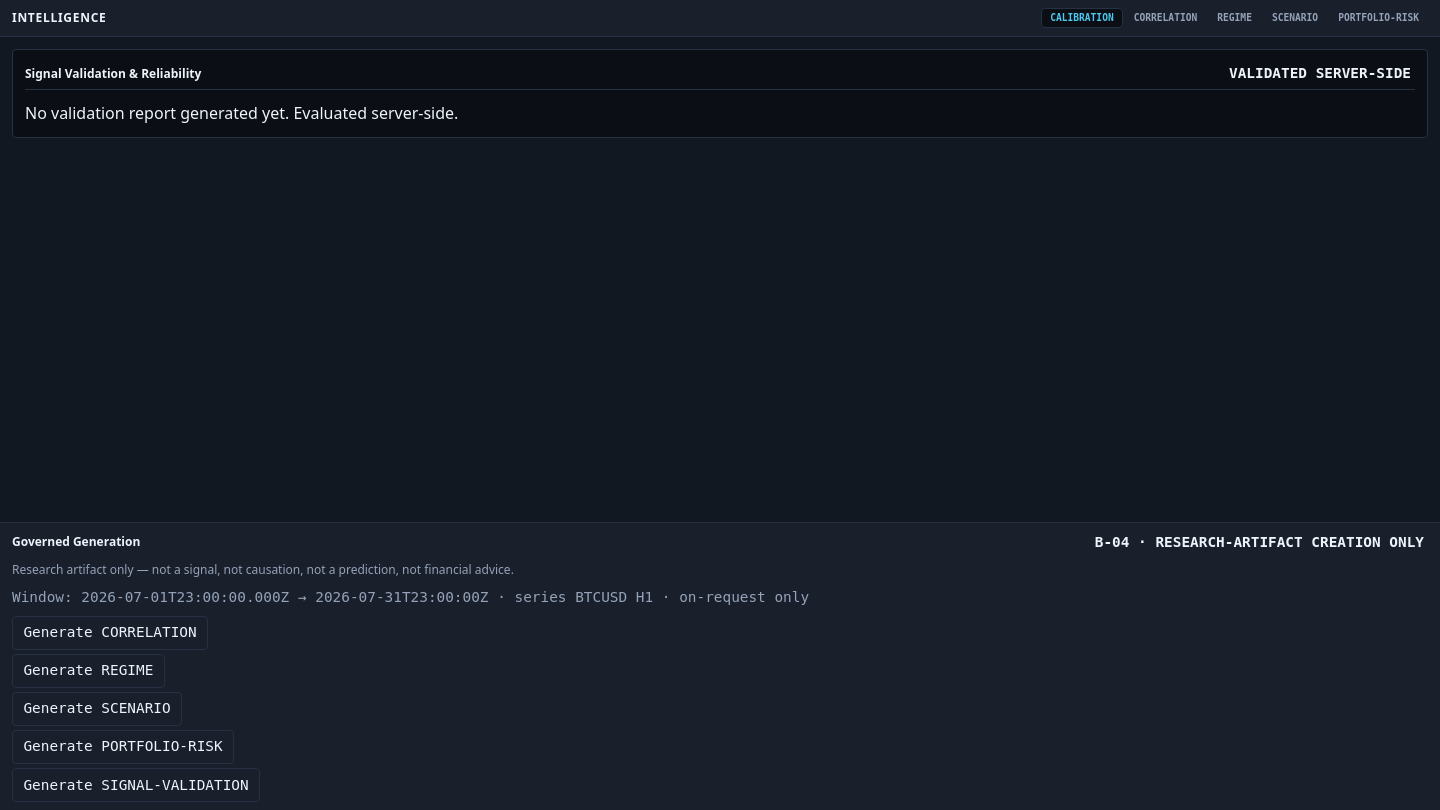
Test: BO-F-03.3 — governed generation surface › insufficient-data (structured 422) renders an honest notice — nothing fabricated
What coordinates should you click on to do the following:
click the button with test id "gen-btn-correlation"
I would click on:
 (110, 633)
Its box is x1=12 y1=616 x2=208 y2=650.
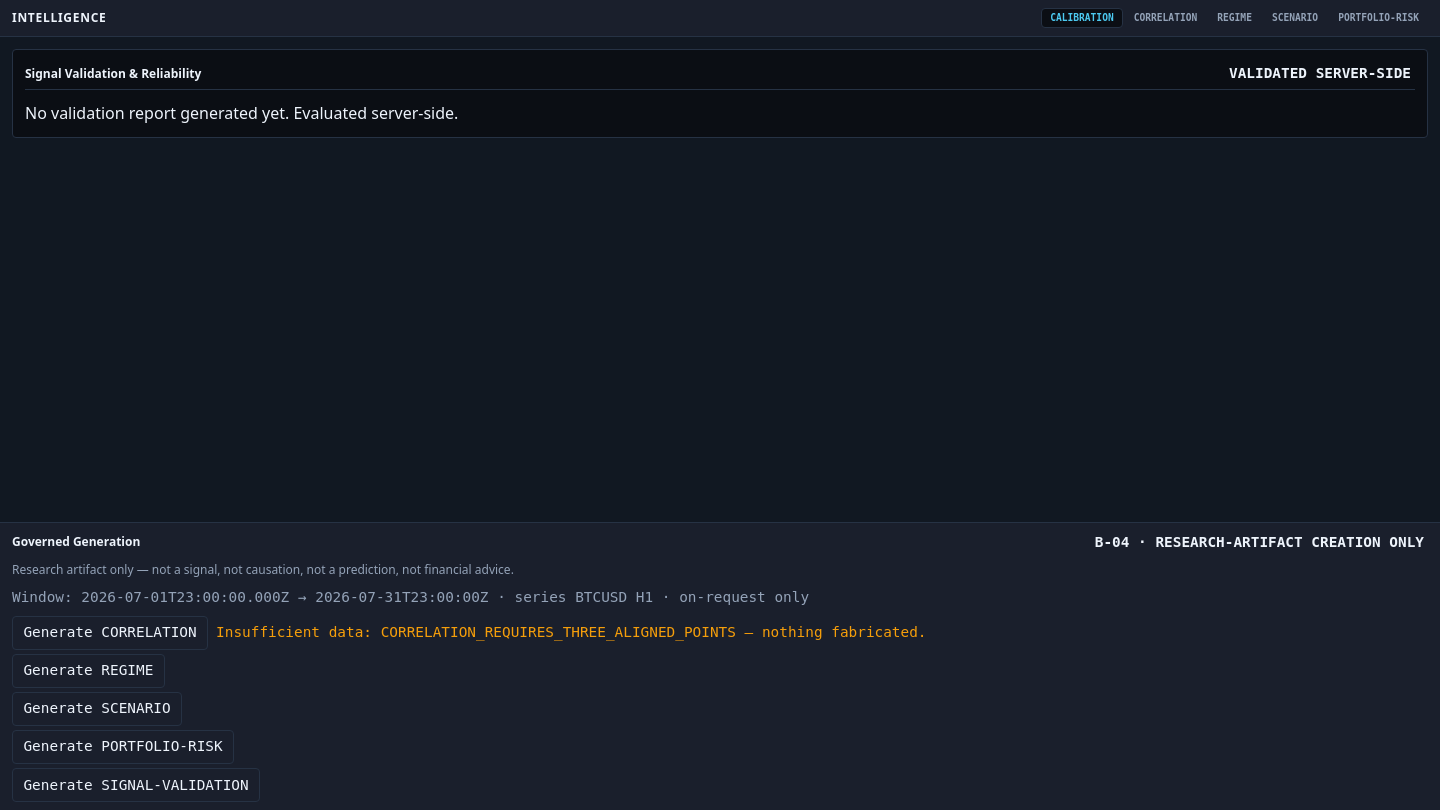
Expected: the text with test id "gen-insufficient-correlation" shows "Insufficient data: CORRELATION_REQUIRES_THREE_ALIGNED_POINTS", x1=216 y1=622 x2=927 y2=643
Expected: the text with test id "gen-insufficient-correlation" shows "nothing fabricated", x1=736 y1=624 x2=926 y2=640
